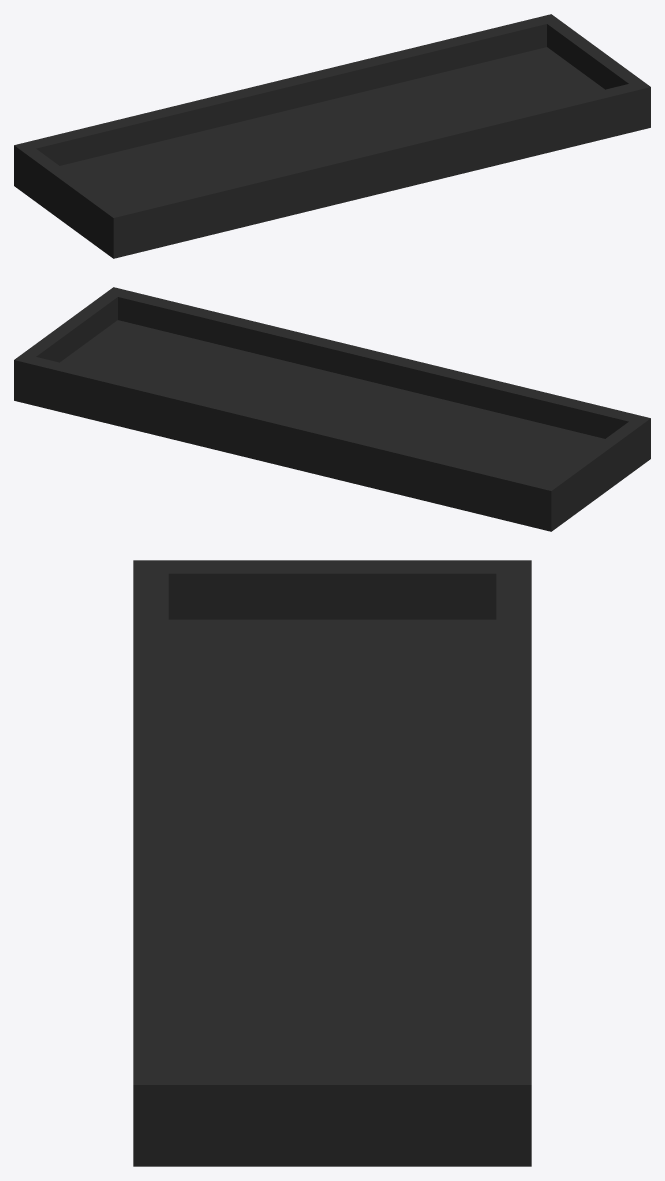
File: KeyboardFrame.glb
3 views of the same model, one above another, from view 1: azimuth 30°, elevation 25°; view 2: azimuth 150°, elevation 25°; view 3: azimuth 270°, elevation 25° (orthographic). The views are drawn at different scales.
Parts seen in each view (by area): view 1: Cube.001; view 2: Cube.001; view 3: Cube.001.
Boxes of the visible parts, x1,y1,x2,y2 form: Cube.001: (14,14,650,258); Cube.001: (14,287,650,531); Cube.001: (133,560,531,1166).
Bounding box in the file's own units: 5.82 × 0.4218 × 1.87.
Materials: 1 (1 with a texture image).
